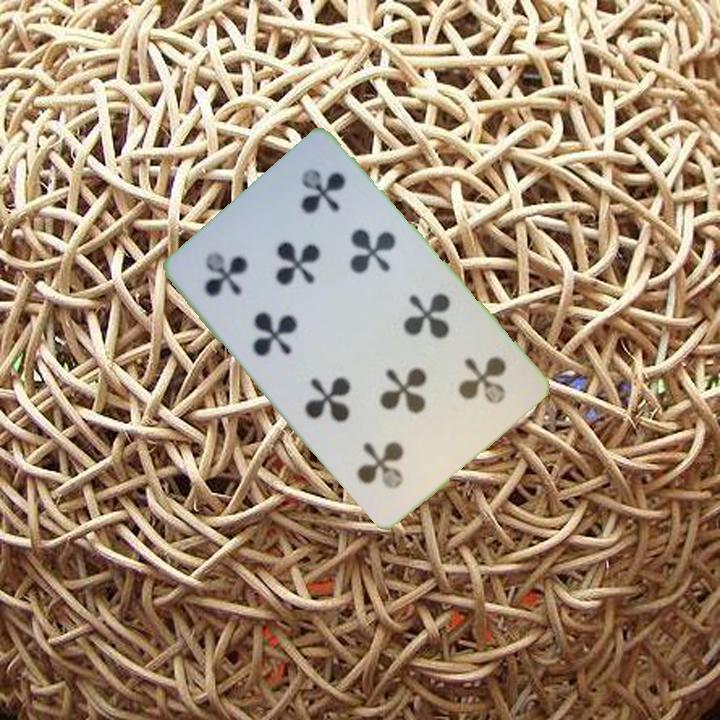c_10.png: (176, 207, 306, 336), (403, 322, 532, 450)
